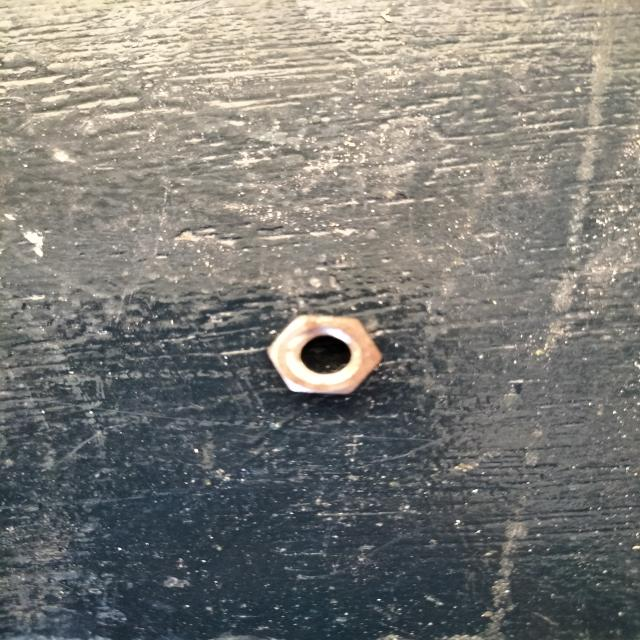nuts: (268, 315, 381, 396)
